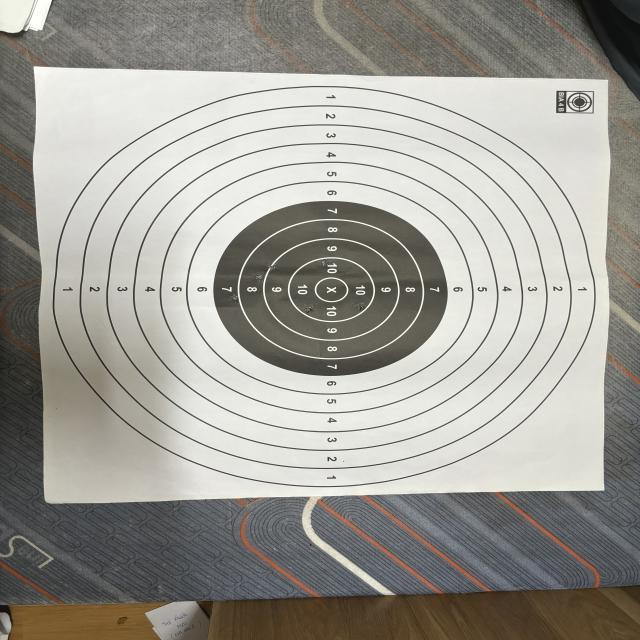bullet: (355, 304, 365, 311), (267, 264, 277, 270), (230, 296, 238, 303), (321, 259, 328, 266), (308, 308, 312, 312), (256, 276, 260, 280)
target: (32, 72, 615, 500), (24, 496, 624, 596), (4, 604, 492, 640)
